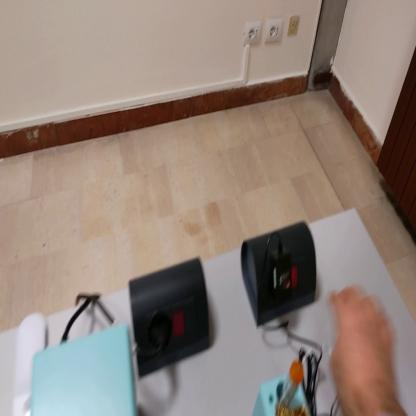hand: (329, 284, 399, 415)
socket: (129, 251, 212, 380), (240, 217, 319, 334)
welder base: (254, 360, 312, 415)
welder station: (34, 317, 139, 415)
